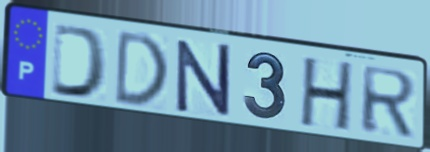3: (241, 50, 288, 124)
D: (48, 21, 111, 102), (112, 27, 171, 108)
H: (297, 55, 357, 135)
N: (174, 38, 233, 119)
R: (359, 63, 420, 139)
